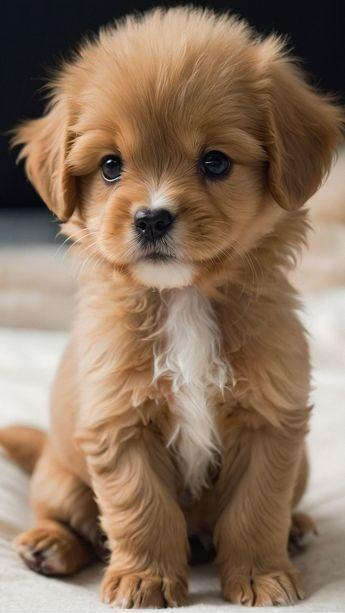puppy-dog: (1, 3, 345, 609)
